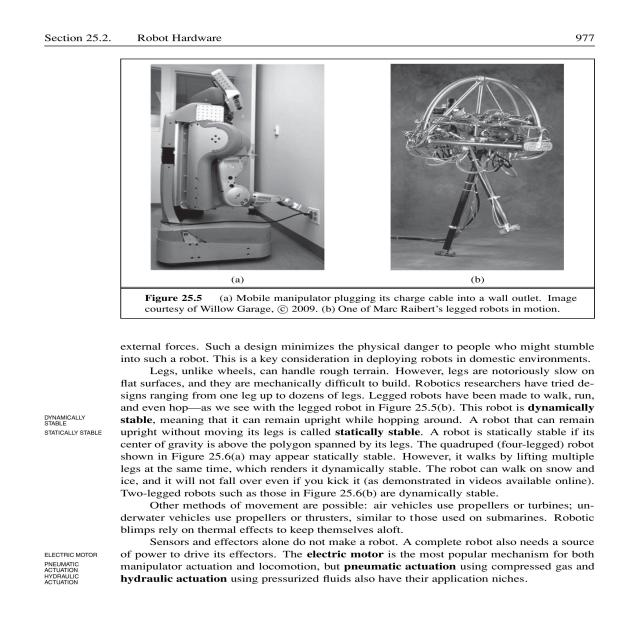diagram: (80, 58, 640, 326)
